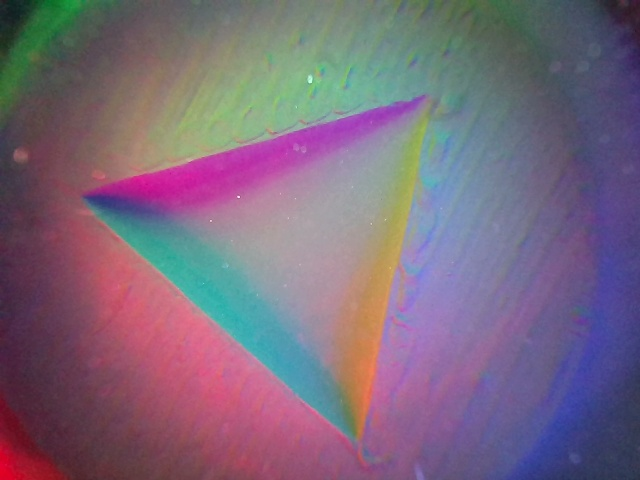contact: (85, 97, 423, 436)
